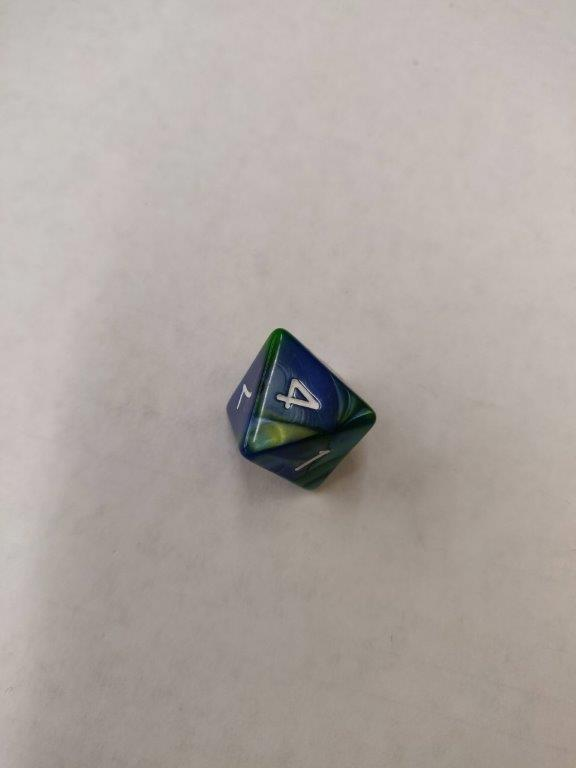d8-4: (224, 329, 379, 496)
